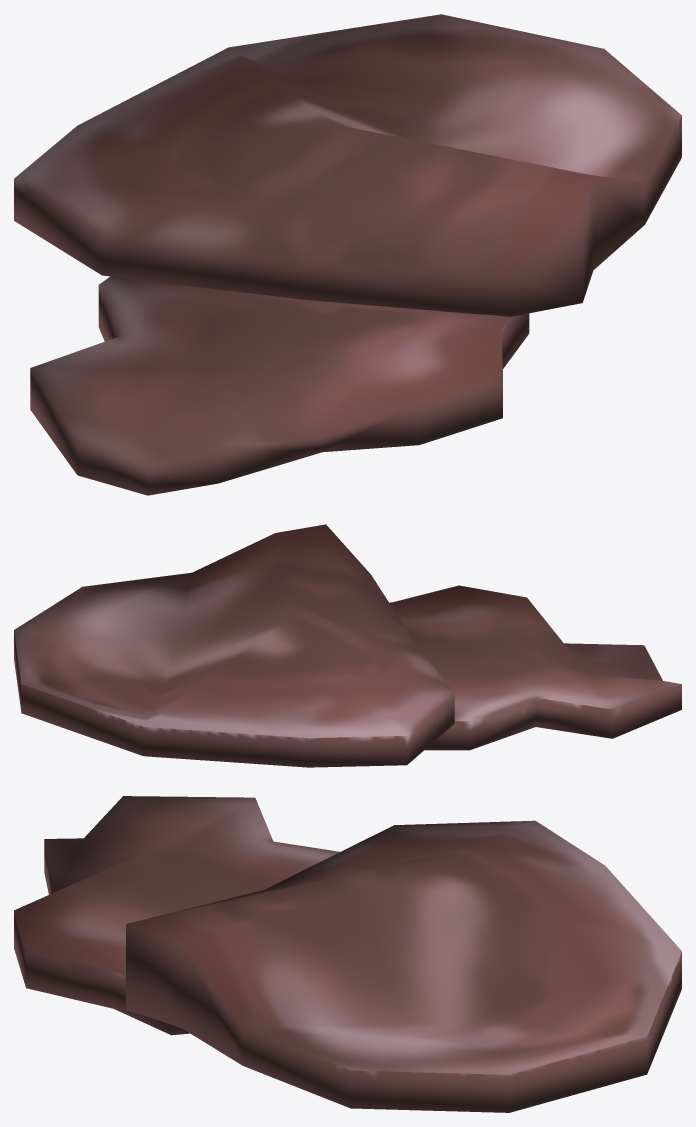
The model's file is JamurKuping.fbx.
3 views of the same model, one above another, from view 1: azimuth 30°, elevation 25°; view 2: azimuth 150°, elevation 25°; view 3: azimuth 270°, elevation 25° (orthographic). The views are drawn at different scales.
Parts seen in each view (by area): view 1: j.kuping; view 2: j.kuping; view 3: j.kuping.
Part boxes in pixels (x1,y1,x2,y2): j.kuping: [14, 14, 681, 495]; j.kuping: [14, 524, 681, 767]; j.kuping: [14, 796, 681, 1112].
Size of the model in its own units: 134 by 27.43 by 116.
